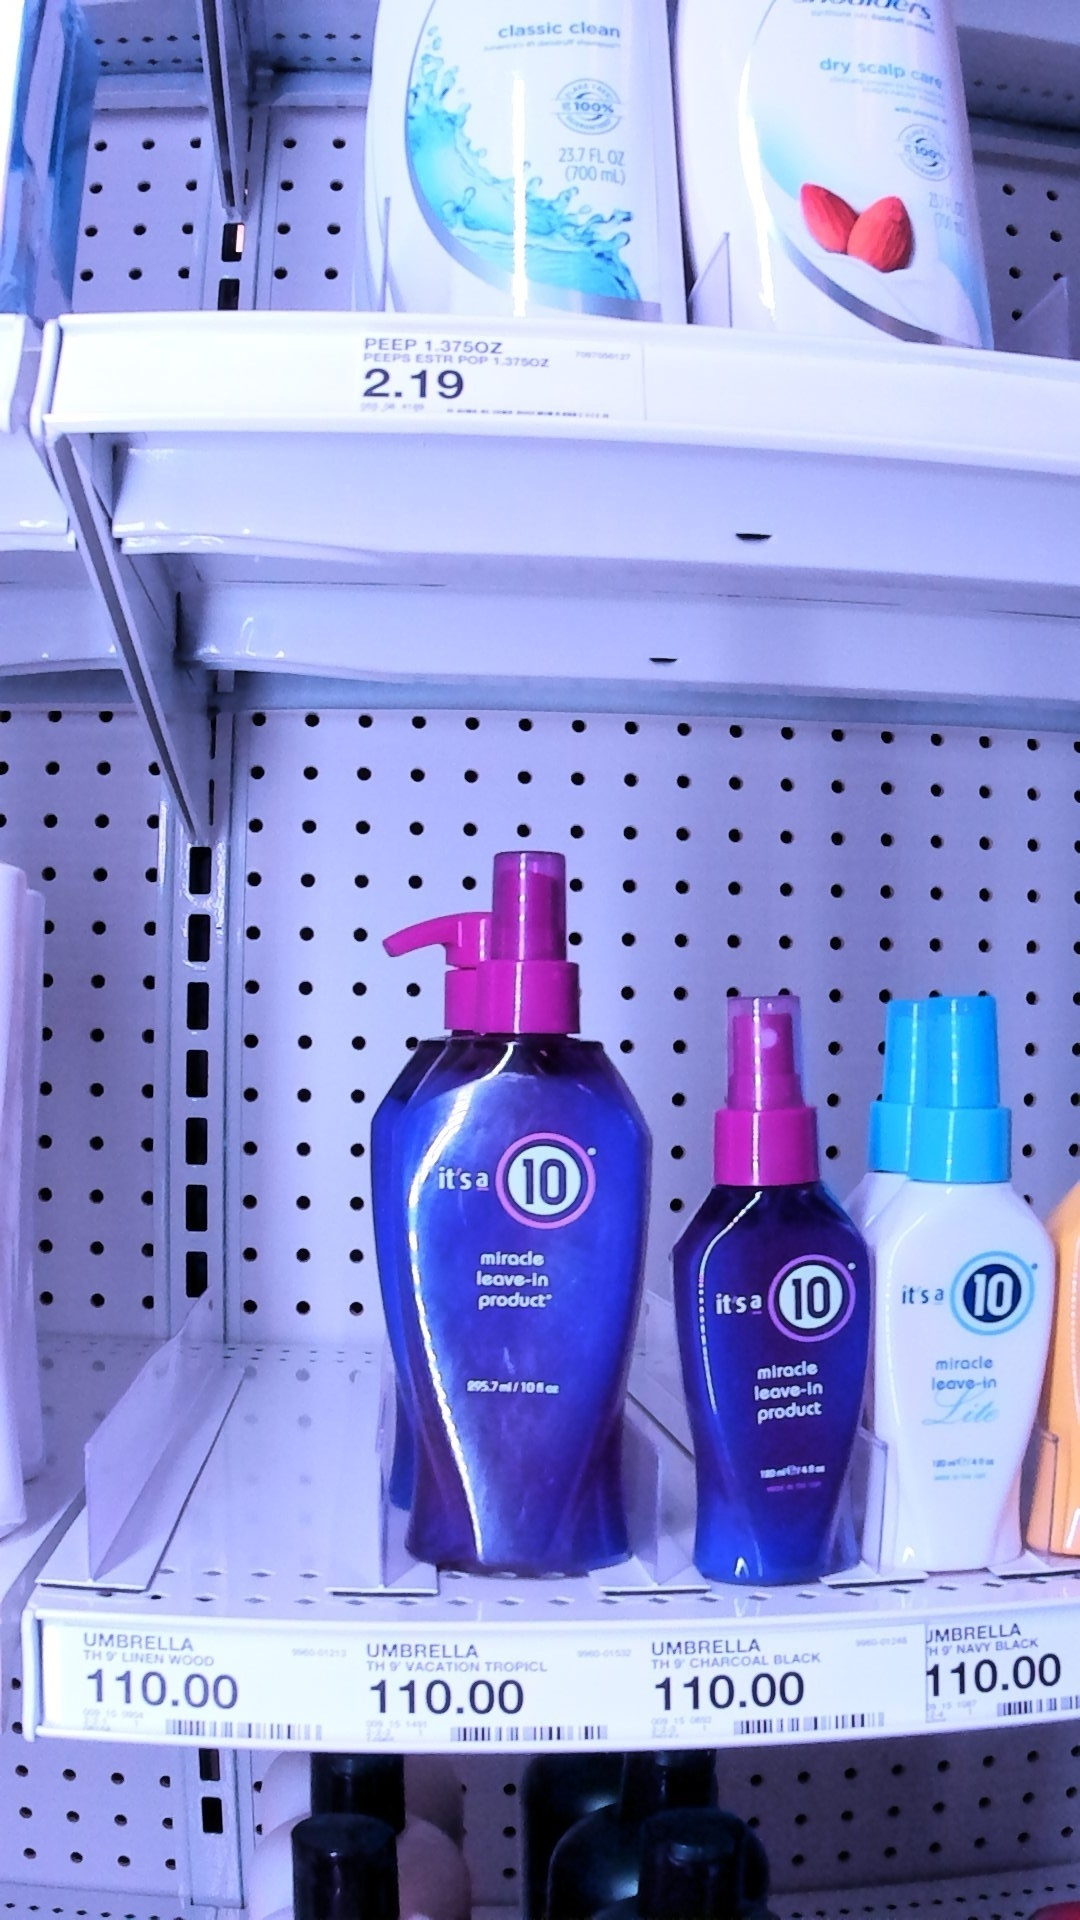ptag: (344, 309, 649, 435), (53, 1613, 315, 1755), (364, 1622, 618, 1762), (651, 1625, 873, 1746), (915, 1604, 1080, 1737)
